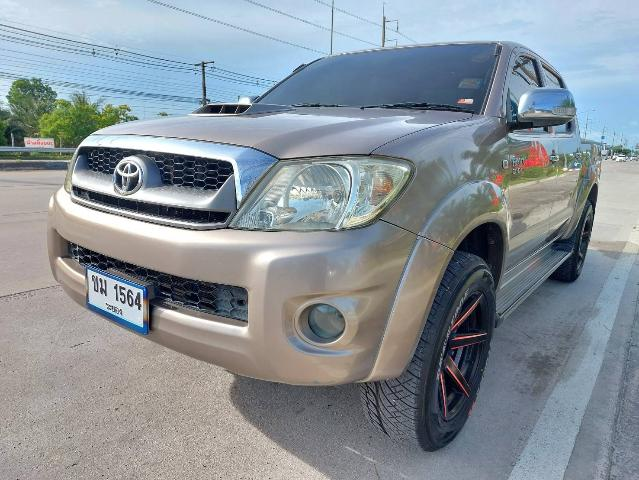pickup-truck: (45, 34, 610, 461)
